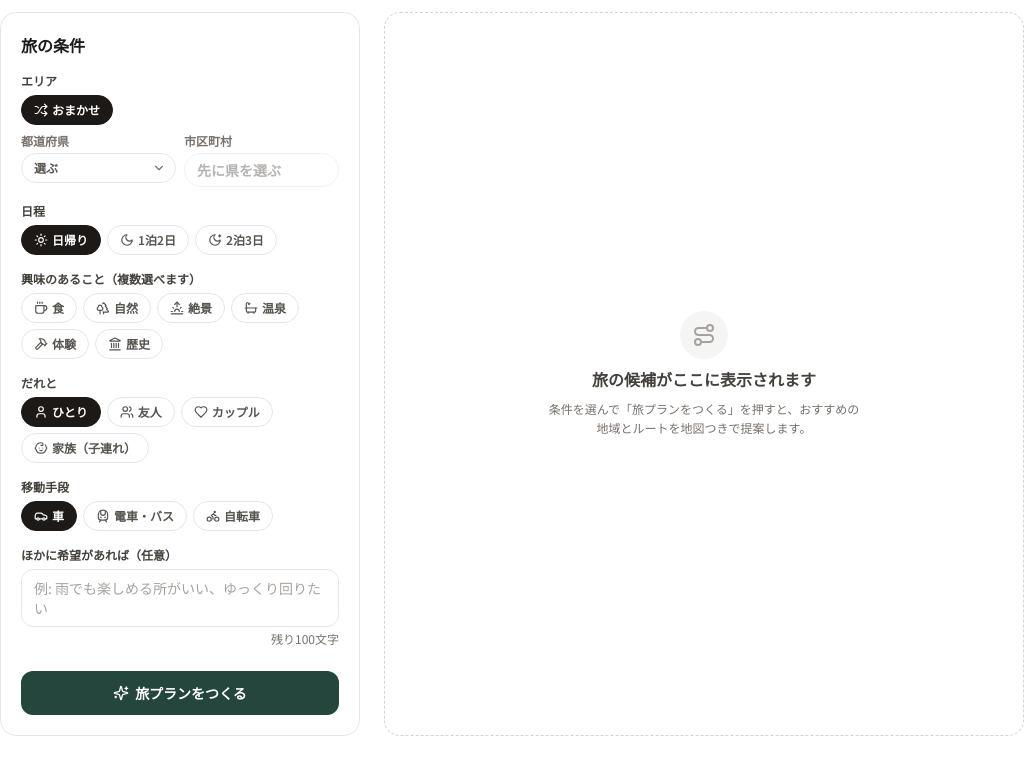
PlannerForm › 条件の送り方（#17） › 地域は id で、日程はコードで送る
This screenshot has width=1024, height=780.
Click the dropdown named "都道府県": (98, 168) x1=21 y1=153 x2=176 y2=183
(page scrolled)
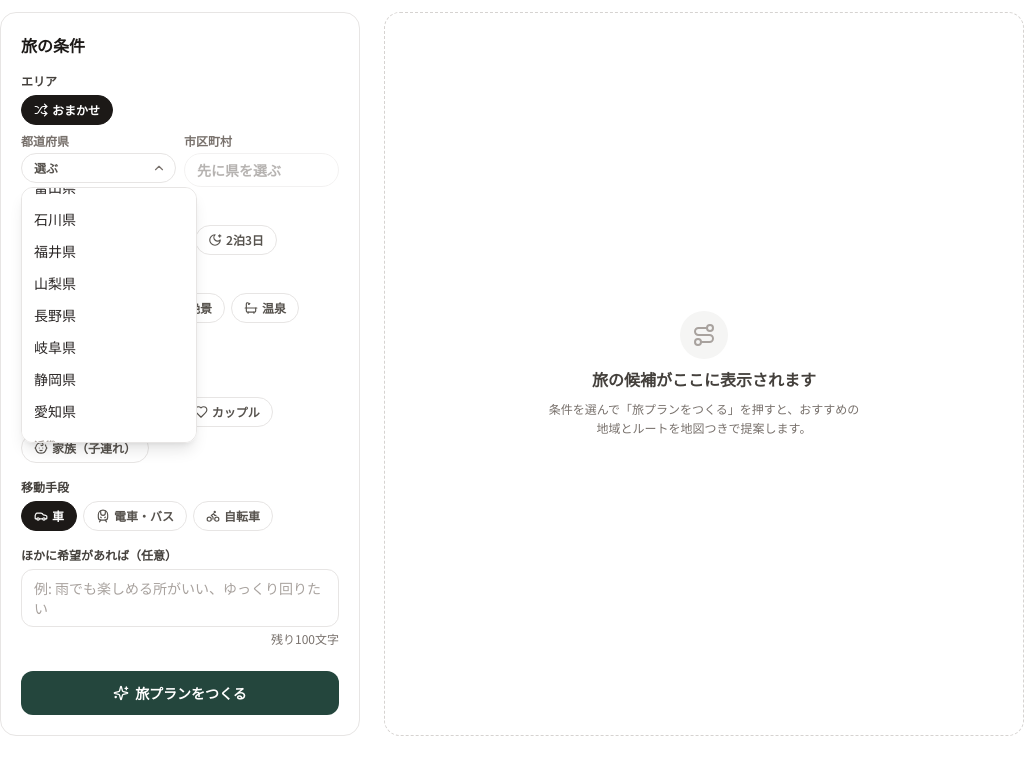
Click the option "長野県": (55, 315) x1=34 y1=305 x2=76 y2=325
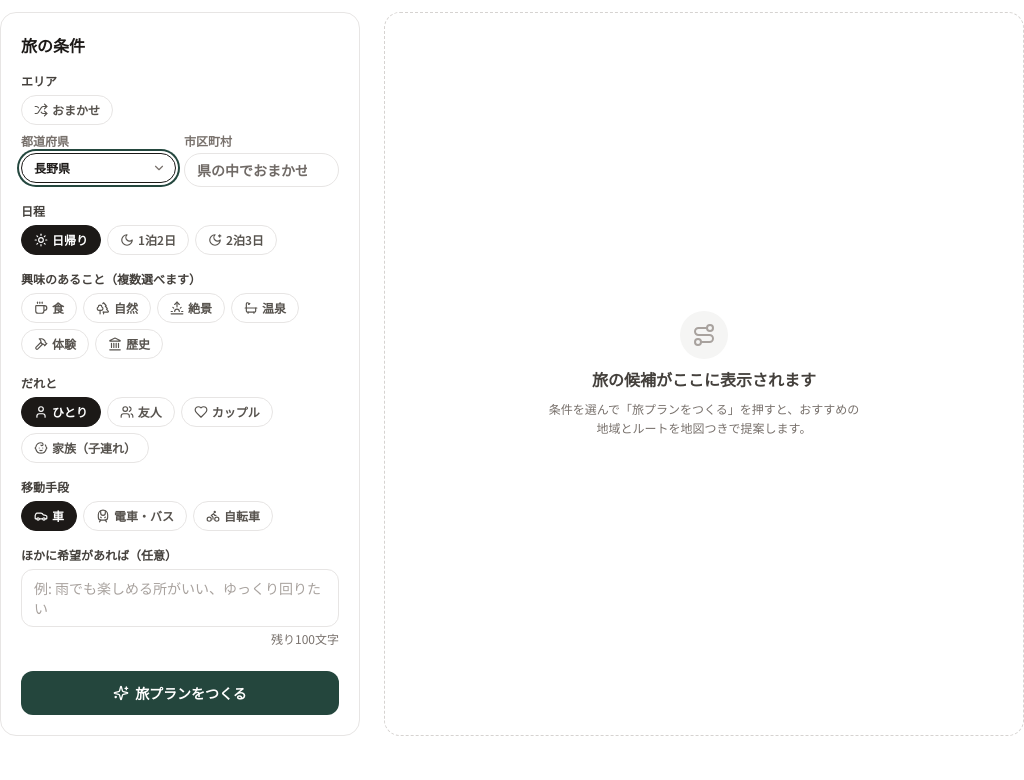
In the field labelled "市区町村": (262, 170) x1=184 y1=153 x2=339 y2=187, type "松本市"
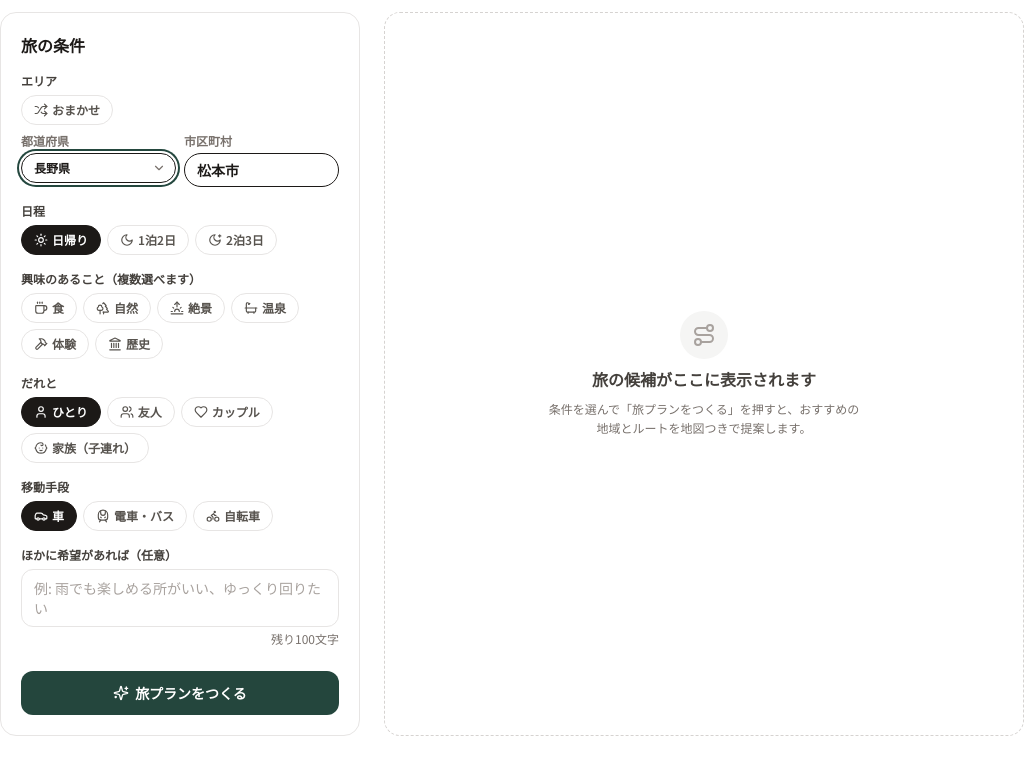
Click the button "1泊2日": (148, 240) x1=107 y1=225 x2=189 y2=255
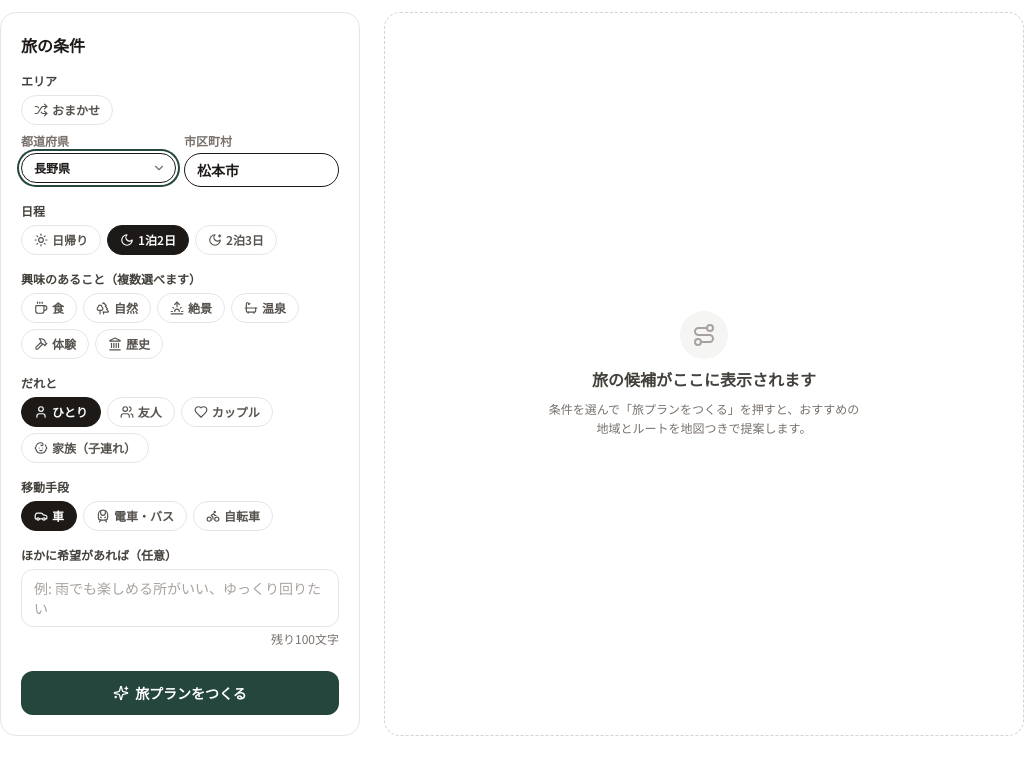
Click the button "温泉": (265, 308) x1=231 y1=293 x2=299 y2=323
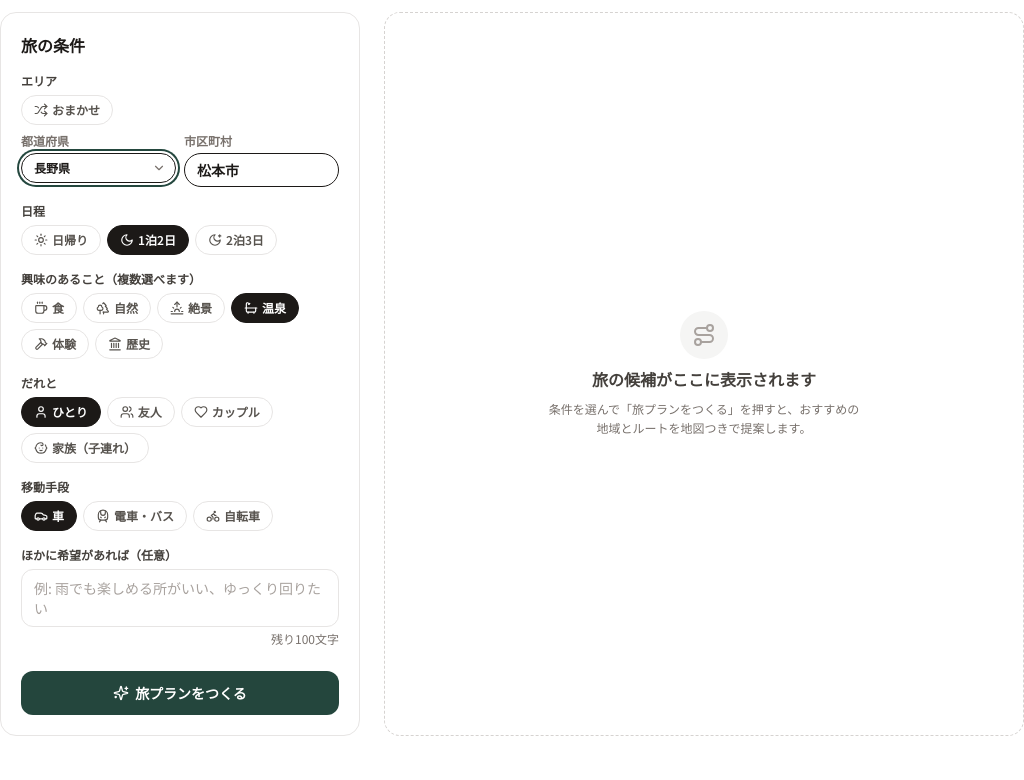
Click the button "旅プランをつくる": (180, 693) x1=21 y1=671 x2=339 y2=715
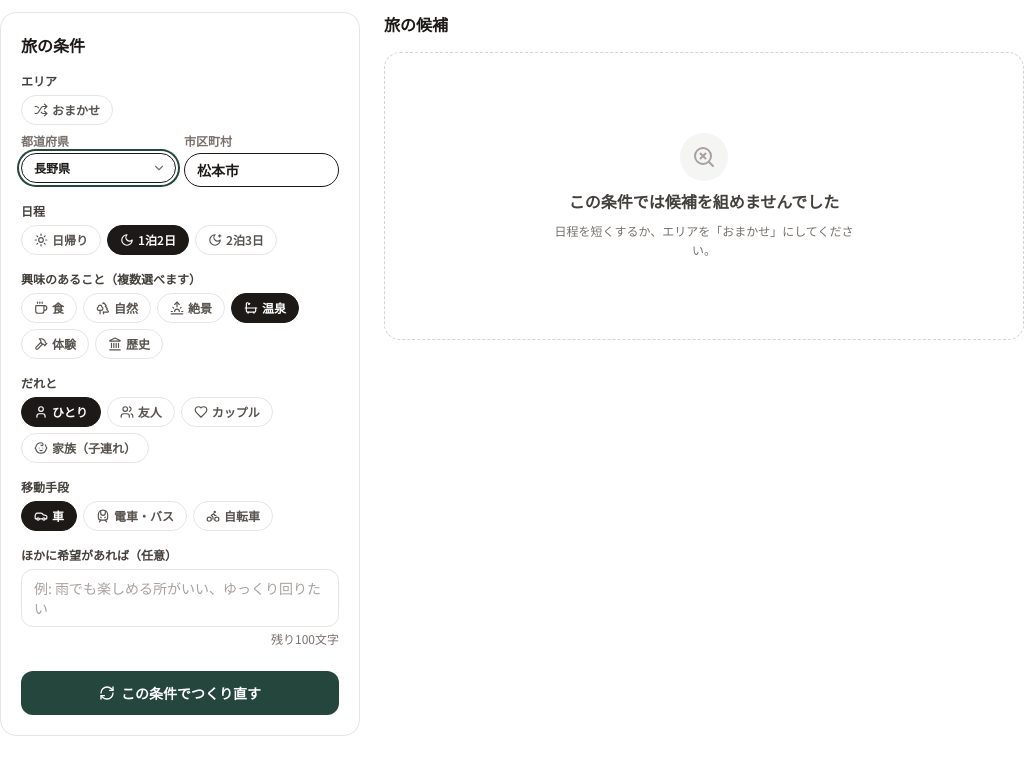
Now the text "この条件では候補を組めませんでした" is shown, box x1=569 y1=188 x2=839 y2=212
